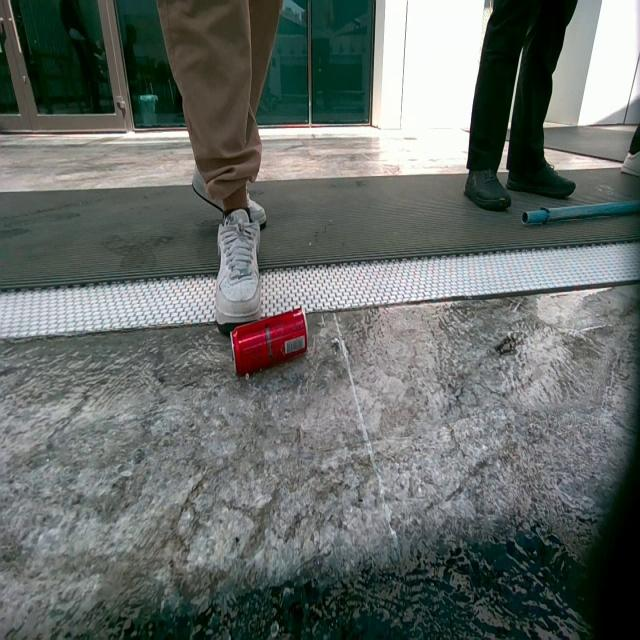Cans: (234, 316, 309, 379)
